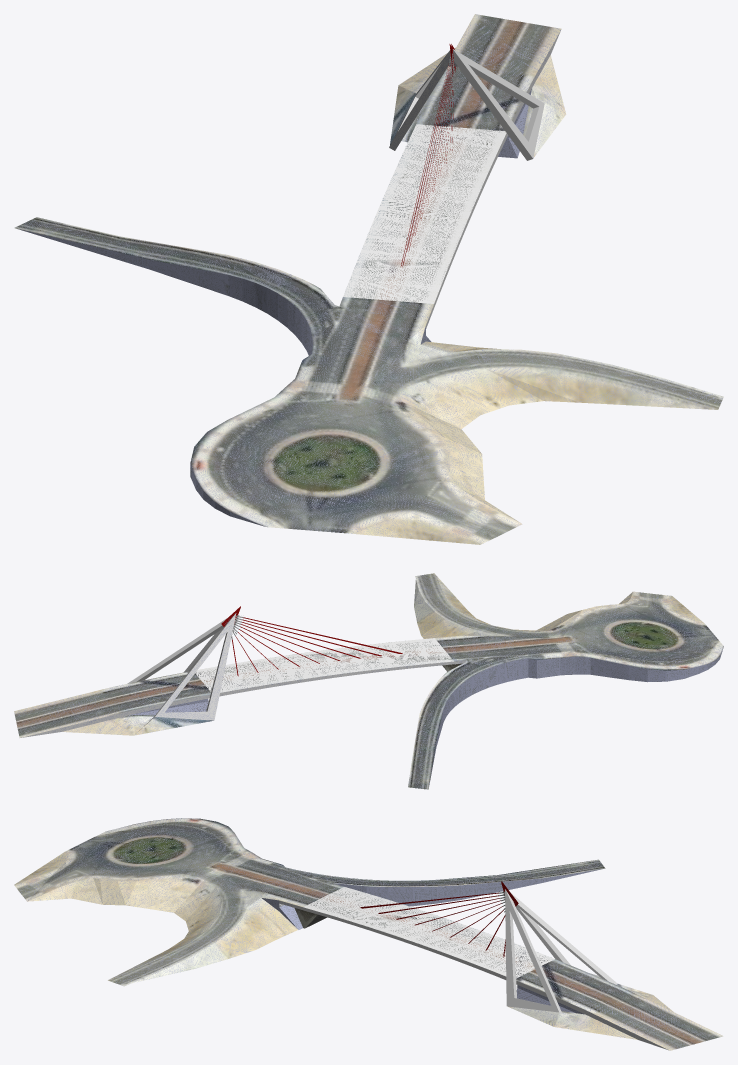
Rendered from puente_lasrozas.fbx.
The picture shows the model from 3 angles, top to bottom: view 1: azimuth 30°, elevation 25°; view 2: azimuth 150°, elevation 25°; view 3: azimuth 270°, elevation 25°; orthographic projection. The views are drawn at different scales.
Visible parts, largest first — view 1: Model; view 2: Model; view 3: Model.
Part boxes in pixels (x1,y1,x2,y2): Model: (14,14,723,544); Model: (14,573,723,789); Model: (14,818,723,1050).
Size of the model in its own units: 202 by 43.69 by 249.
